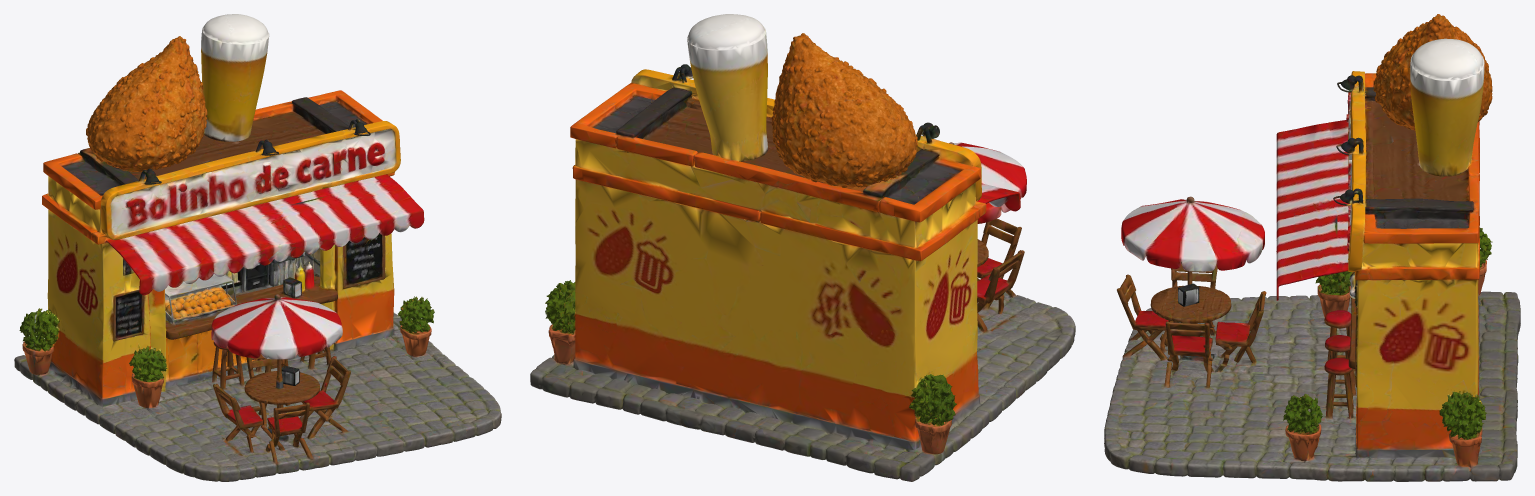
File: bolinho-kiosk.glb
3 renders of one model, left to right at view 1: azimuth 30°, elevation 25°; view 2: azimuth 150°, elevation 25°; view 3: azimuth 270°, elevation 25°, orthographic. The views are drawn at different scales.
Visible parts, largest first — view 1: Mesh_0; view 2: Mesh_0; view 3: Mesh_0.
Part boxes in pixels (x1,y1,x2,y2): Mesh_0: (14, 14, 501, 481); Mesh_0: (530, 14, 1075, 481); Mesh_0: (1104, 14, 1520, 481).
Size of the model in its own units: 1.9 by 1.7 by 1.78.
1 material, 1 textured.
